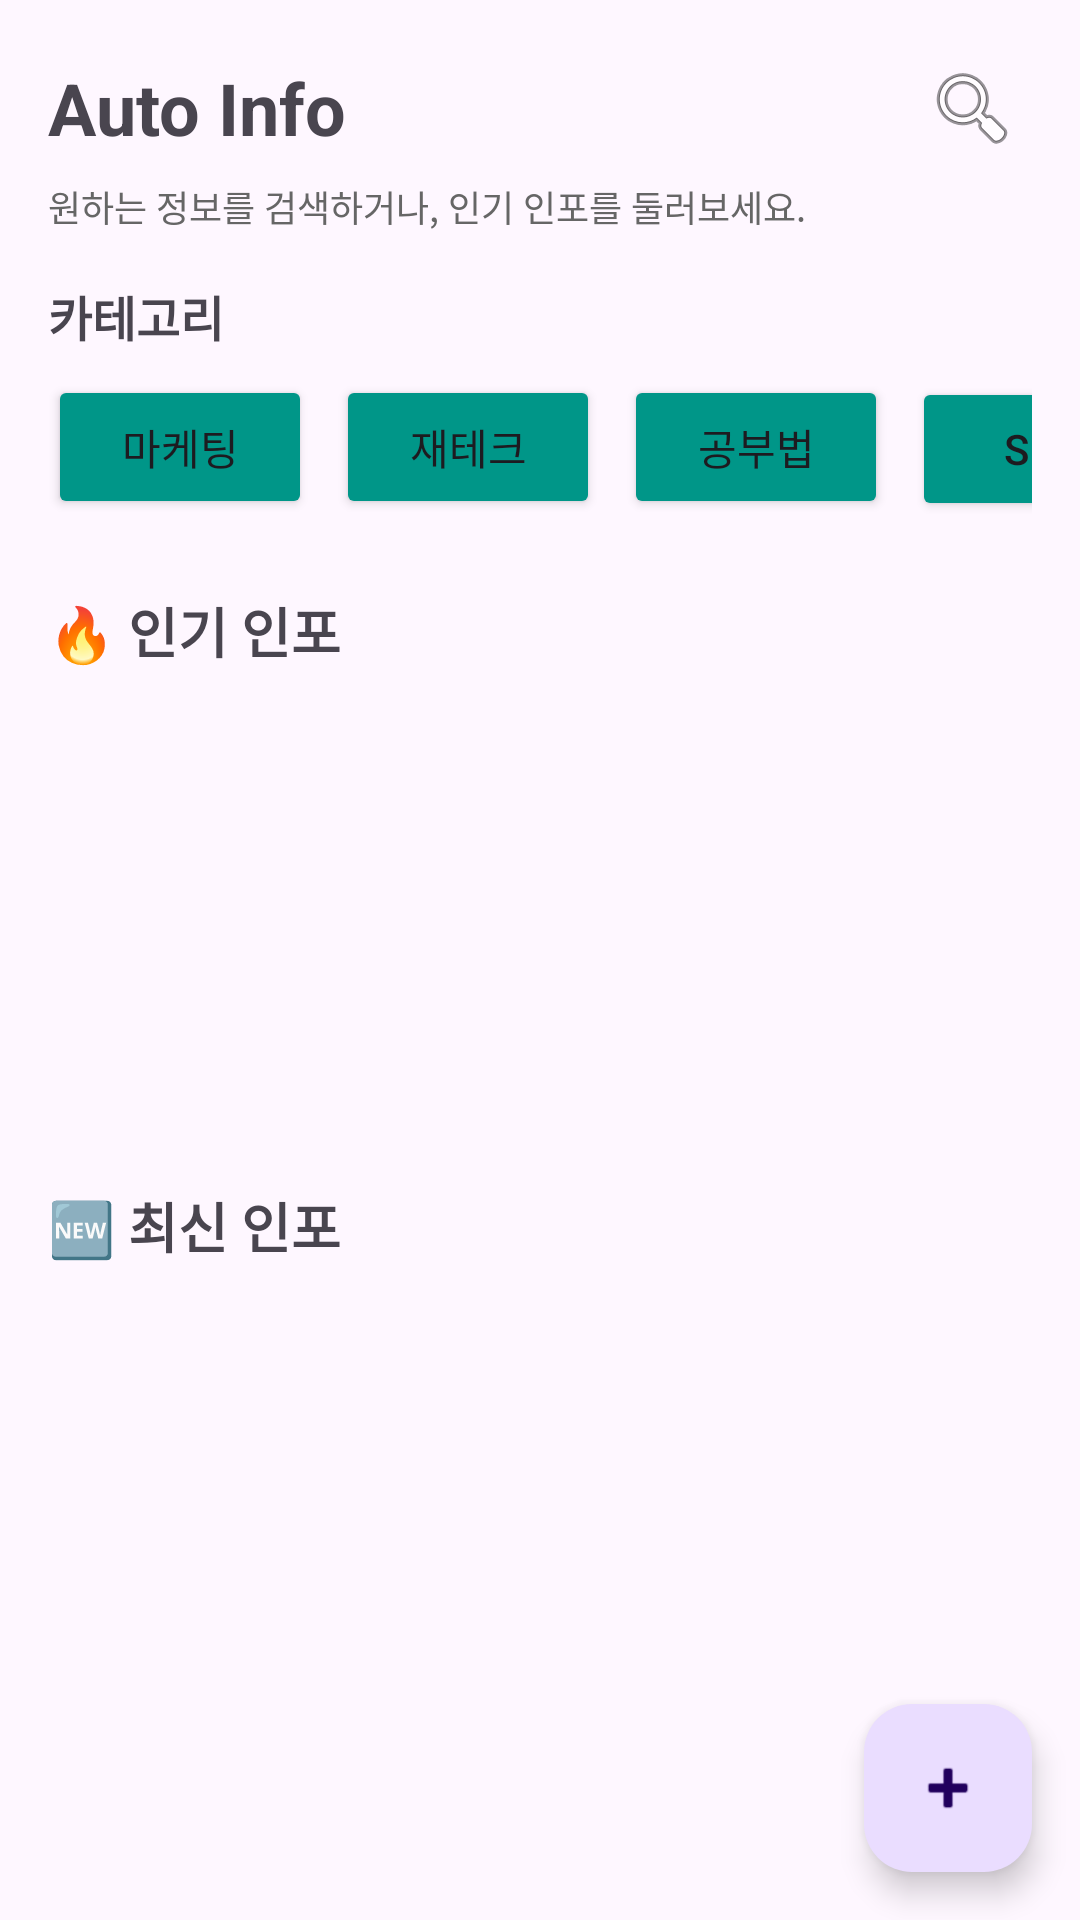

Screen size 1080×1920. Icon name, then its center in pixels as (x=x, y=y):
새 인포 등록: (x=948, y=1788)
